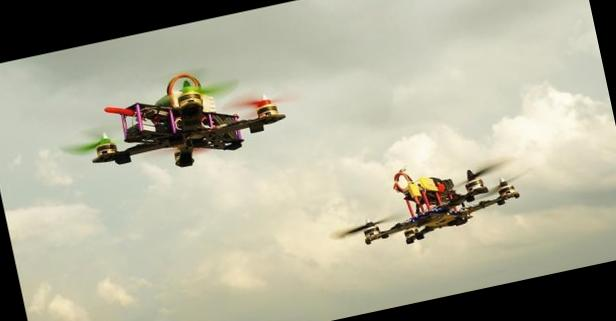drone: (44, 56, 318, 214), (322, 132, 542, 260)
